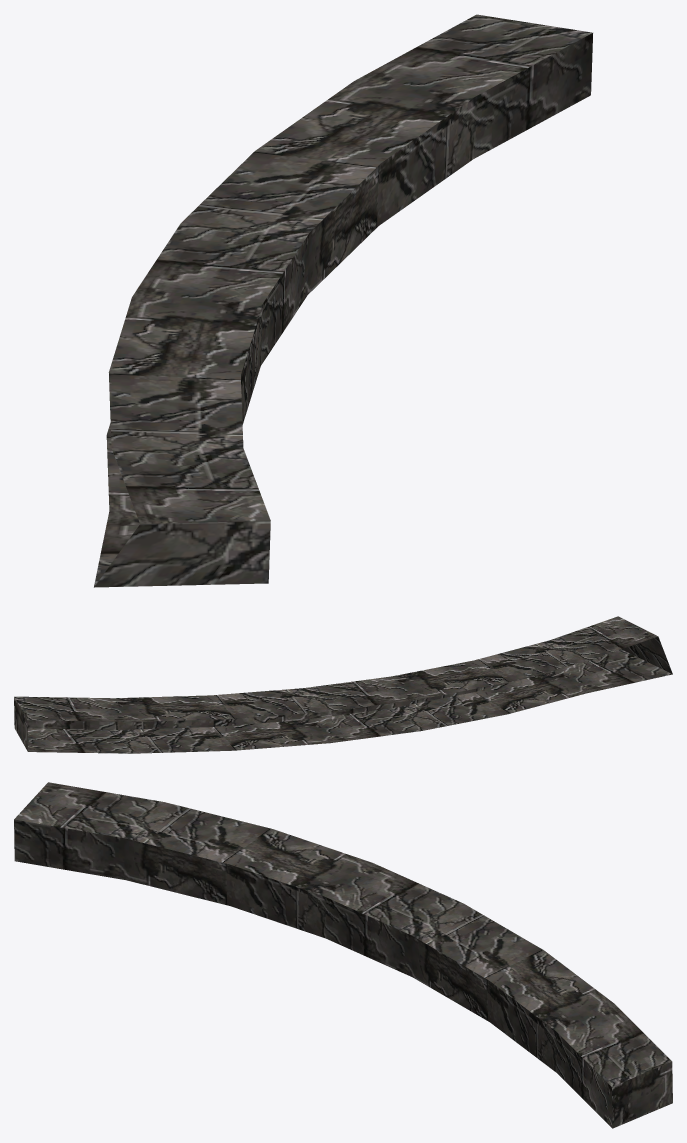
File: CH09_SMAUG_PLAYSURFACE_LAIR76.fbx
3 views of the same model, one above another, from view 1: azimuth 30°, elevation 25°; view 2: azimuth 150°, elevation 25°; view 3: azimuth 270°, elevation 25° (orthographic). The views are drawn at different scales.
Visible parts, largest first — view 1: CH09_SMAUG_PLAYSURFACE_LAIR76; view 2: CH09_SMAUG_PLAYSURFACE_LAIR76; view 3: CH09_SMAUG_PLAYSURFACE_LAIR76.
Boxes of the visible parts, x1,y1,x2,y2 form: CH09_SMAUG_PLAYSURFACE_LAIR76: (94, 14, 592, 587); CH09_SMAUG_PLAYSURFACE_LAIR76: (14, 616, 672, 753); CH09_SMAUG_PLAYSURFACE_LAIR76: (14, 782, 672, 1128).
Size of the model in its own units: 94280 by 8878 by 87793.
1 material, 1 textured.
